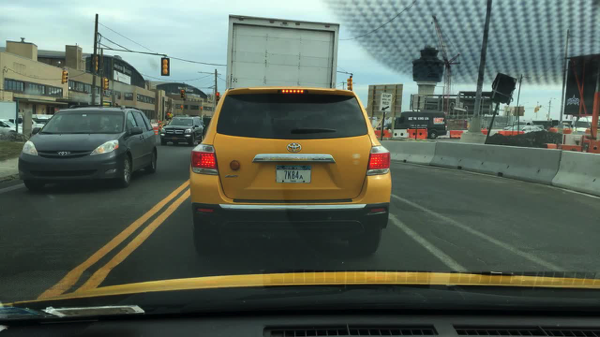car: (188, 86, 391, 256), (18, 104, 157, 191), (375, 111, 447, 140), (159, 116, 206, 147), (1, 118, 32, 137), (8, 117, 44, 131), (184, 116, 207, 134), (21, 114, 55, 125), (506, 125, 547, 133), (573, 119, 589, 133), (156, 122, 168, 133), (561, 122, 570, 129), (503, 125, 513, 131)
traffic light: (160, 57, 169, 75), (101, 76, 110, 91), (61, 70, 68, 85), (346, 77, 353, 91), (93, 55, 98, 72), (215, 91, 220, 106), (180, 88, 184, 100)
traffic sign: (379, 91, 393, 114)
truck: (225, 14, 339, 90)
